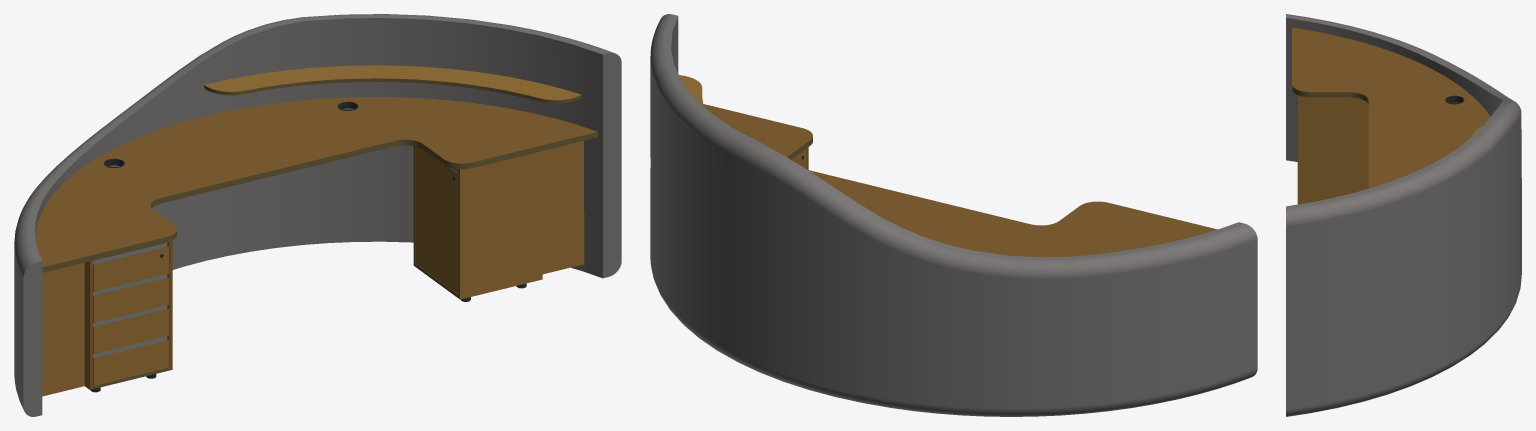
File: reception_desk.glb
The picture shows the model from 3 angles, left to right: view 1: azimuth 30°, elevation 25°; view 2: azimuth 150°, elevation 25°; view 3: azimuth 270°, elevation 25°; orthographic projection. The views are drawn at different scales.
Parts seen in each view (by area): view 1: Body2, Body1, Body42, Body36, Body4, Body19, Body45, Body26, Body28, Body30, Body24, Body5 (+1 smaller); view 2: Body2, Body1; view 3: Body2, Body1, Body6.
Boxes of the visible parts, <box> form: Body2: <box>14,14,621,416</box>; Body1: <box>35,97,597,272</box>; Body42: <box>458,151,542,299</box>; Body36: <box>204,65,581,103</box>; Body4: <box>42,262,84,396</box>; Body19: <box>542,141,584,274</box>; Body45: <box>416,146,458,293</box>; Body26: <box>93,277,168,322</box>; Body28: <box>93,308,168,353</box>; Body30: <box>93,340,168,385</box>; Body24: <box>93,246,168,291</box>; Body5: <box>84,260,92,389</box>; Body2: <box>650,14,1257,416</box>; Body1: <box>703,104,1217,257</box>; Body2: <box>1286,14,1521,416</box>; Body1: <box>1292,27,1490,188</box>; Body6: <box>1297,95,1368,204</box>.
Size of the model in its own units: 3.33 by 1.2 by 1.23.
